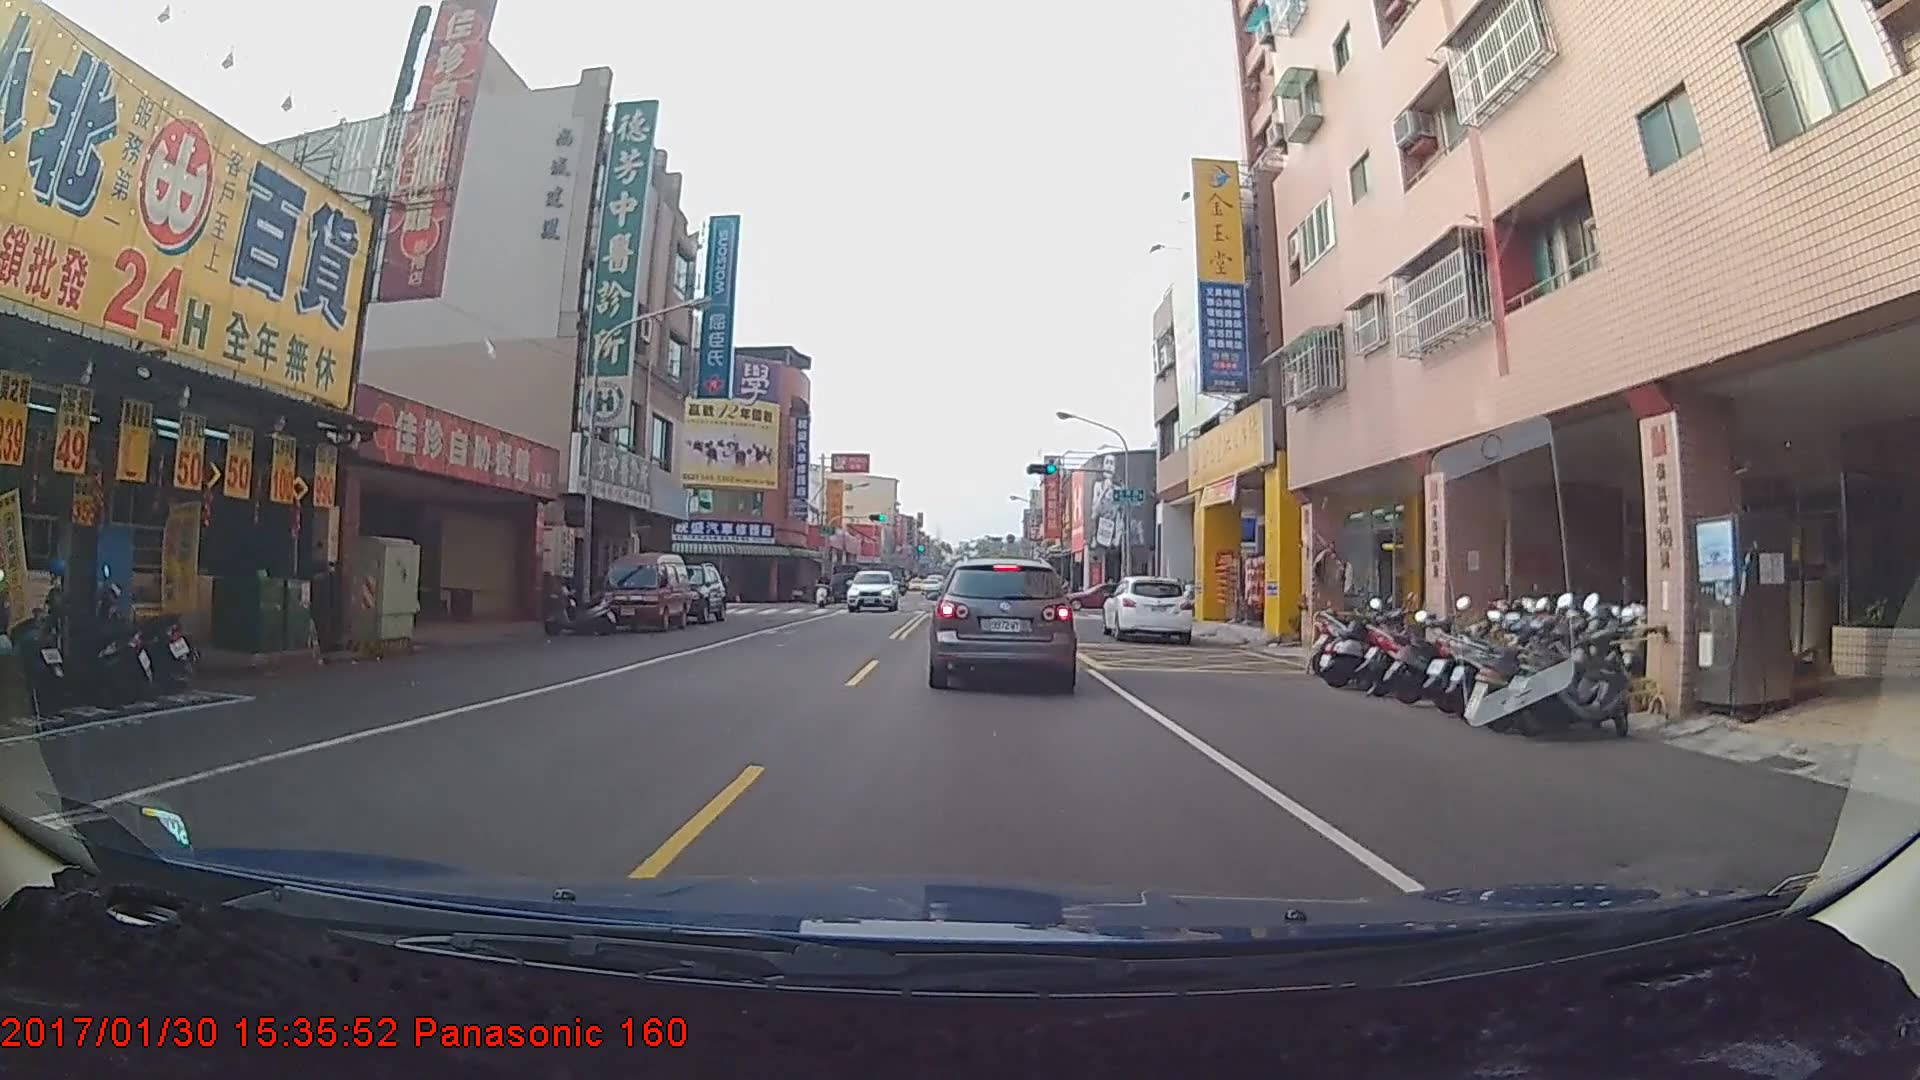rider: (815, 572, 837, 610)
vehicle: (930, 556, 1076, 687), (596, 559, 690, 637), (1101, 574, 1193, 644), (653, 563, 727, 627), (843, 575, 888, 613)
